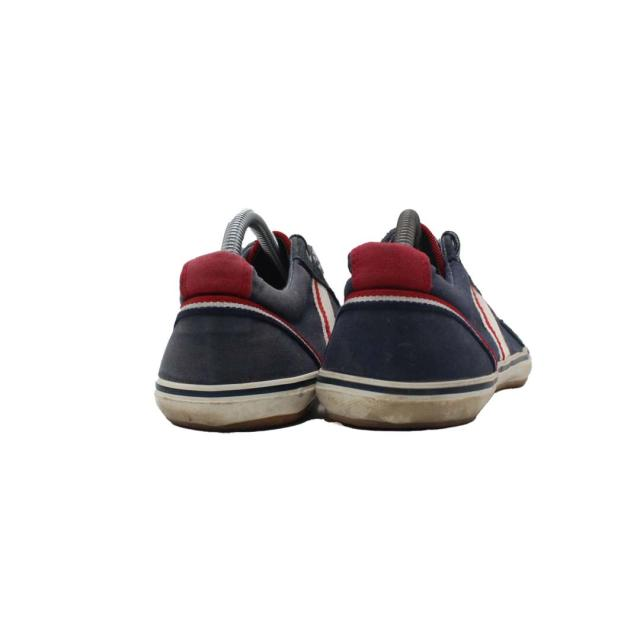heel: (330, 231, 492, 381), (159, 242, 304, 387)
midsole: (155, 381, 526, 431)
